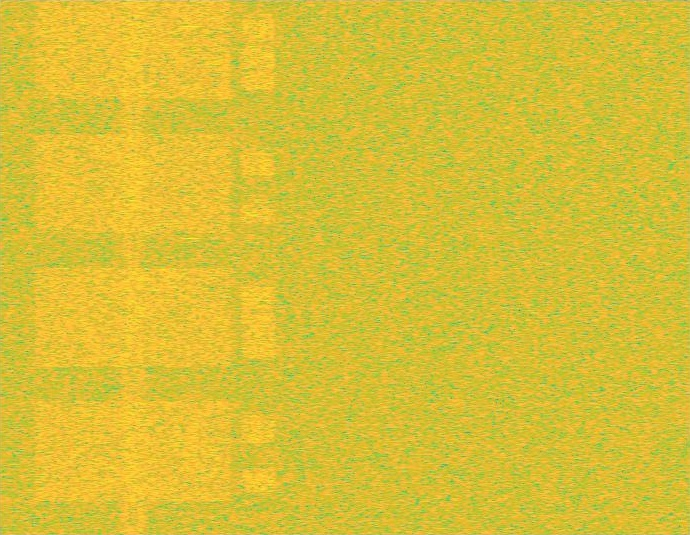5G: (30, 0, 237, 534)
DSSS: (120, 0, 148, 534)
LTE: (241, 0, 276, 534)
Radar: (184, 0, 198, 534)
